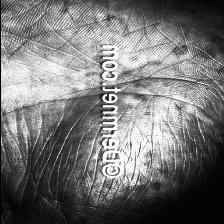Toxin: (0, 1, 89, 224), (120, 0, 215, 154)
